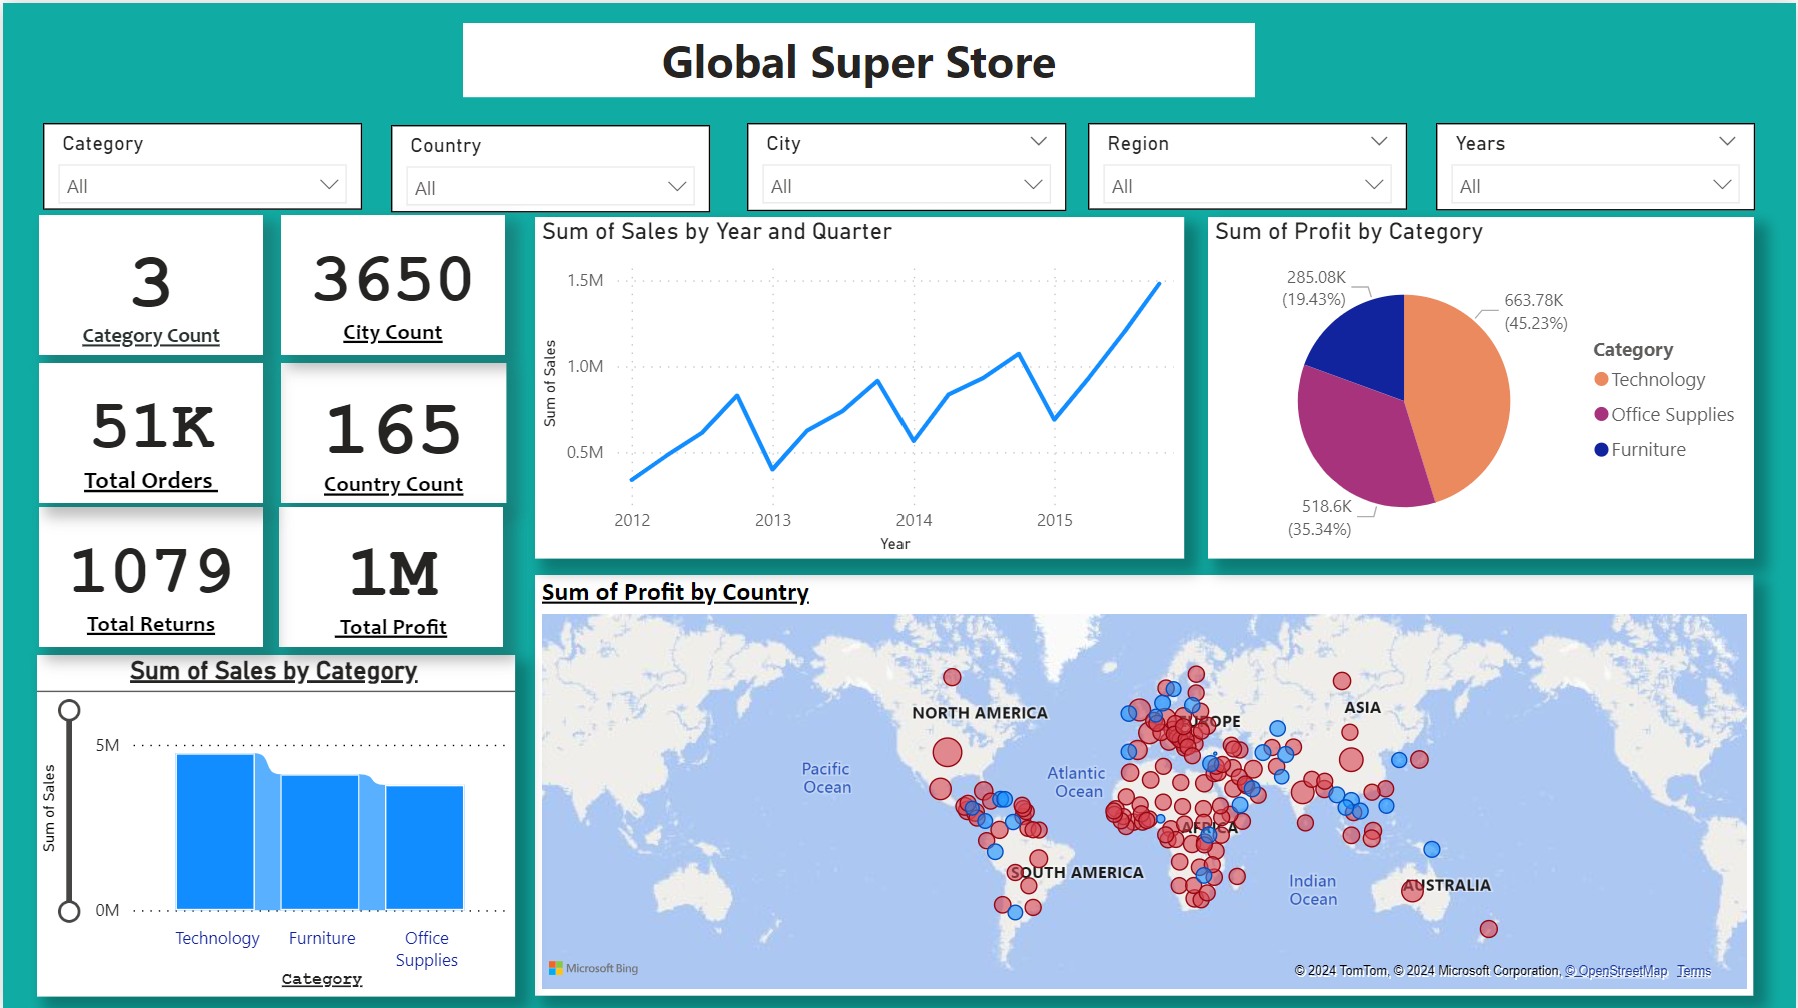

What the dashboard file says about the page in this screenshot:
{"tool":"powerbi","page":{"name":"Page 1","canvas":[1280,720],"ordinal":0},"visuals":[{"type":"card","fields":{"Values":["Count(Orders.Category)"]},"box":[25,152,160,100],"z":0,"group":"g2"},{"type":"card","fields":{"Values":["Count(Orders.Country)"]},"box":[198,258,161,100],"z":1000,"group":"g2"},{"type":"slicer","fields":{"Values":["Orders.Category"]},"box":[28.4,85.4,228,62],"z":2000,"group":"g1"},{"type":"card","fields":{"Values":["Count(Orders.City)"]},"box":[198,152,160,100],"z":2000,"group":"g2"},{"type":"card","fields":{"Values":["Sum(Orders.Profit)"]},"box":[197,361,160,100],"z":3000,"group":"g2"},{"type":"slicer","fields":{"Values":["Orders.Country"]},"box":[276.8,86.3,228,62.7],"z":4000,"group":"g1"},{"type":"map","title":"Sum of Profit by Country","fields":{"Size":["Sum(Orders.Profit)"],"Category":["Orders.Country"]},"box":[379.9,408.4,869.6,300.7],"z":4000},{"type":"slicer","fields":{"Values":["Orders.City"]},"box":[531.4,85.3,227.6,63],"z":5000,"group":"g1"},{"type":"card","fields":{"Values":["CountNonNull(Returns.Returned)"]},"box":[25,361,160,100],"z":5000,"group":"g2"},{"type":"card","fields":{"Values":["CountNonNull(Orders.Order ID)"]},"box":[25,257,160,100],"z":6000,"group":"g2"},{"type":"slicer","fields":{"Values":["Orders.Region"]},"box":[773.7,85.4,228,62],"z":7000,"group":"g1"},{"type":"columnChart","fields":{"Y":["Sum(Orders.Sales)"],"Category":["Orders.Category"]},"box":[24.4,465.3,341.3,243.8],"z":7000},{"type":"lineChart","fields":{"Y":["Sum(Orders.Sales)"],"Category":["Orders.Order Date.Variation.Date Hierarchy.Year","Orders.Order Date.Variation.Date Hierarchy.Quarter","Orders.Order Date.Variation.Date Hierarchy.Month"]},"box":[379.9,152.4,463.2,243.8],"z":8000},{"type":"pieChart","fields":{"Category":["Orders.Category"],"Y":["Sum(Orders.Profit)"]},"box":[859.4,152.4,390.1,243.8],"z":9000},{"type":"group","id":"g1","title":"Group 1","box":[28.4,85.3,1221.1,63],"z":10000},{"type":"textbox","box":[329.1,14.2,564.8,52.8],"z":11000},{"type":"slicer","fields":{"Values":["Orders.Years"]},"box":[1022.1,85.4,228.2,62.7],"z":11000,"group":"g1"},{"type":"group","id":"g2","title":"Group 2","box":[0,0,359,461],"z":11001},{"type":"actionButton","box":[0,0,200,50],"z":11002,"group":"g2"}]}

Visuals, with their boxes in screenshot pixels (x1, y1, x2, y2), scaled from the page's 1280x720 canvas onto the 1798x1008 screenshot:
card - Count(Orders.Category): select_region(35, 213, 260, 353)
card - Count(Orders.Country): select_region(278, 361, 504, 501)
slicer - Orders.Category: select_region(40, 120, 360, 206)
card - Count(Orders.City): select_region(278, 213, 503, 353)
card - Sum(Orders.Profit): select_region(277, 505, 501, 645)
slicer - Orders.Country: select_region(389, 121, 709, 209)
"Sum of Profit by Country" map: select_region(534, 572, 1755, 993)
slicer - Orders.City: select_region(746, 119, 1066, 208)
card - CountNonNull(Returns.Returned): select_region(35, 505, 260, 645)
card - CountNonNull(Orders.Order ID): select_region(35, 360, 260, 500)
slicer - Orders.Region: select_region(1087, 120, 1407, 206)
columnChart - Sum(Orders.Sales) x Orders.Category: select_region(34, 651, 514, 993)
lineChart - Sum(Orders.Sales) x Orders.Order Date.Variation.Date Hierarchy.Year: select_region(534, 213, 1184, 555)
pieChart - Orders.Category x Sum(Orders.Profit): select_region(1207, 213, 1755, 555)
"Group 1" group: select_region(40, 119, 1755, 208)
textbox: select_region(462, 20, 1256, 94)
slicer - Orders.Years: select_region(1436, 120, 1756, 207)
"Group 2" group: select_region(0, 0, 504, 645)
actionButton: select_region(0, 0, 281, 70)
